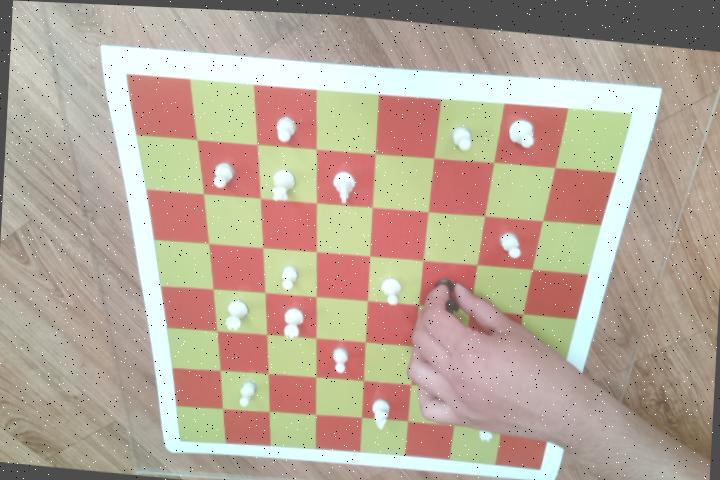chessboard-detect: (125, 70, 631, 465)
